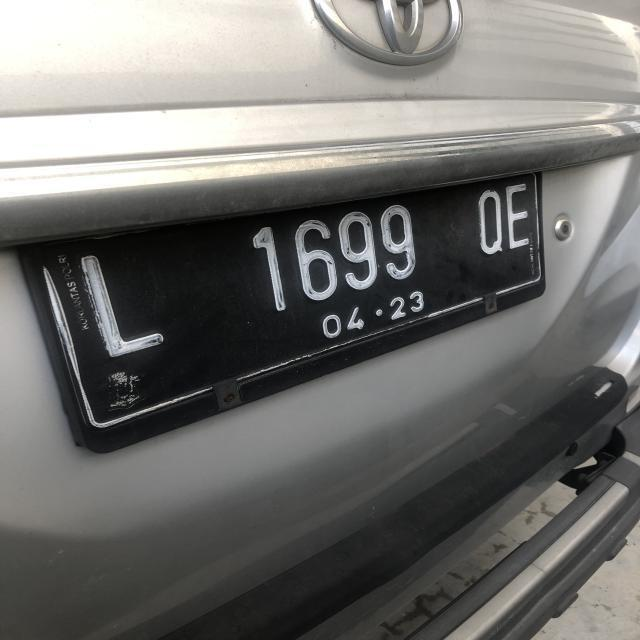1: (248, 221, 288, 313)
6: (292, 212, 334, 298)
9: (336, 208, 379, 292), (377, 200, 420, 280)
E: (502, 180, 536, 253)
L: (76, 249, 165, 356)
Q: (476, 181, 504, 258)
